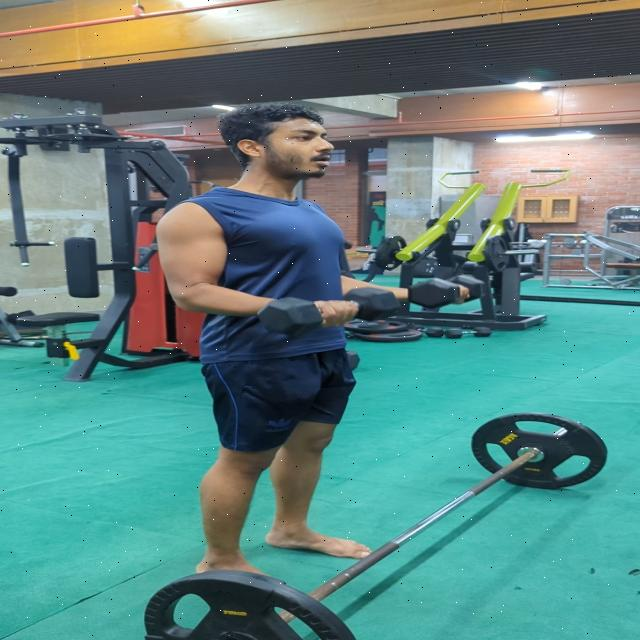Normal_DumbbellBicepCurls: (150, 101, 483, 589)
